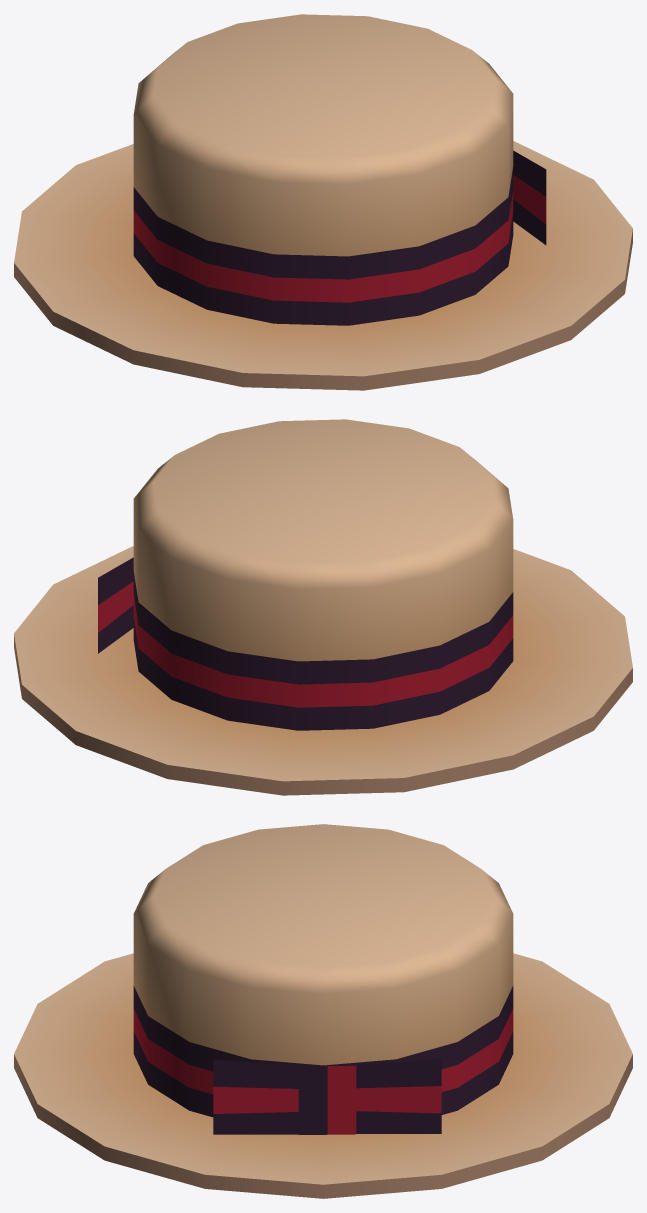
File: human-clothing-boater-hat_v1.glb
3 renders of one model, top to bottom at view 1: azimuth 30°, elevation 25°; view 2: azimuth 150°, elevation 25°; view 3: azimuth 270°, elevation 25°, orthographic.
Parts seen in each view (by area): view 1: Boater Hat; view 2: Boater Hat; view 3: Boater Hat.
Boxes of the visible parts, bbox=[...] form: Boater Hat: bbox=[14, 14, 632, 390]; Boater Hat: bbox=[14, 419, 632, 795]; Boater Hat: bbox=[14, 824, 632, 1198].
Size of the model in its own units: 0.33 by 0.1012 by 0.33.
